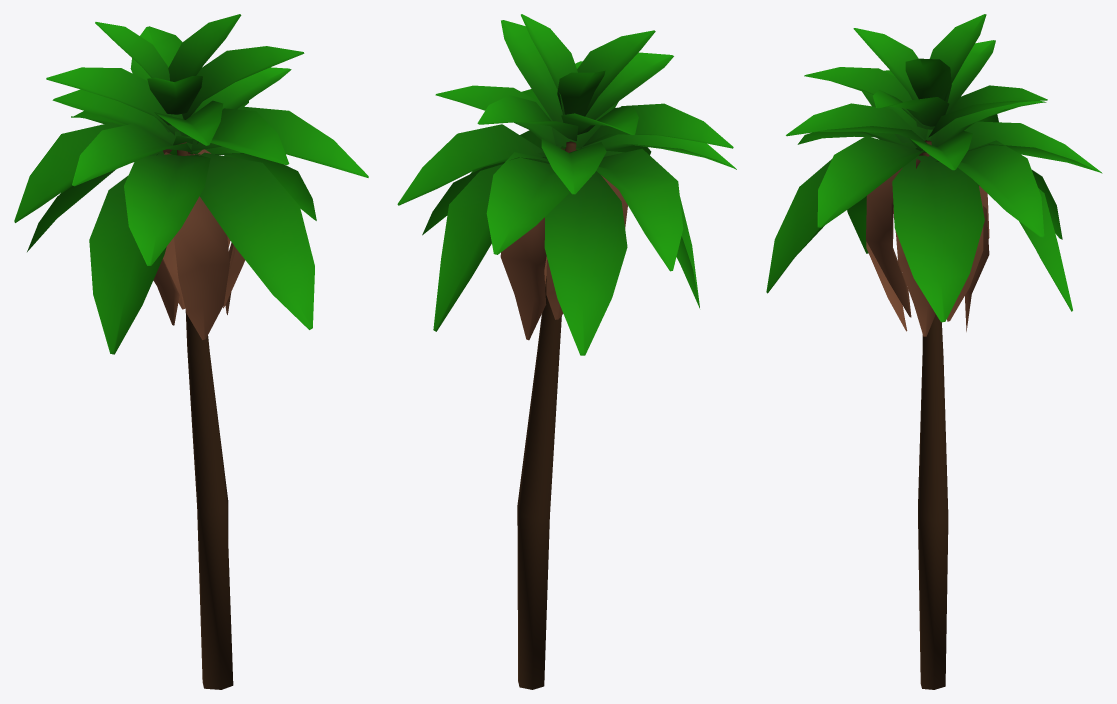
The model's file is tree3.obj.
3 views of the same model, side by side, from view 1: azimuth 30°, elevation 25°; view 2: azimuth 150°, elevation 25°; view 3: azimuth 270°, elevation 25° (orthographic). The views are drawn at different scales.
Parts seen in each view (by area): view 1: TreeD3; view 2: TreeD3; view 3: TreeD3.
Boxes of the visible parts, <box> form: TreeD3: <box>14,14,368,689</box>; TreeD3: <box>397,14,736,689</box>; TreeD3: <box>766,14,1102,689</box>.
Size of the model in its own units: 4.82 by 11.06 by 5.32.
1 material, 1 textured.
